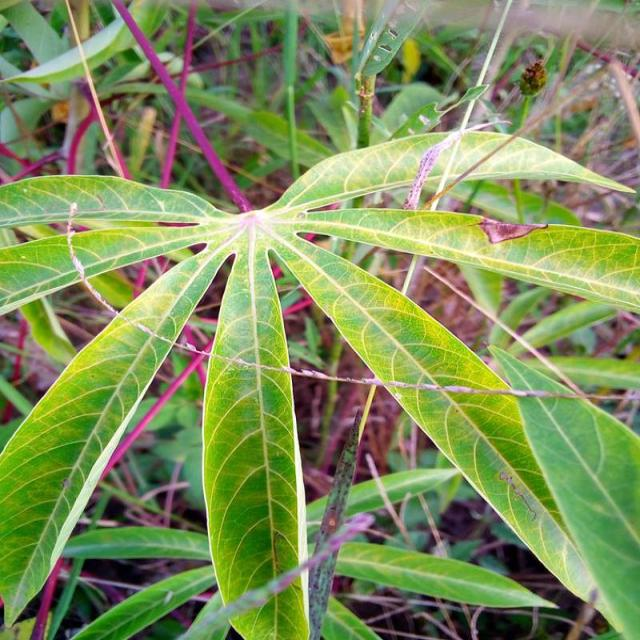cassava leaf: (0, 126, 638, 638), (201, 222, 310, 638)
